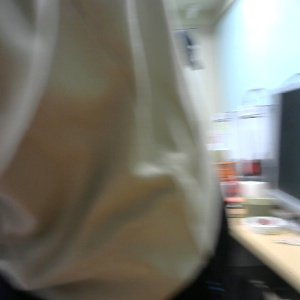Drone: (2, 5, 282, 297)
